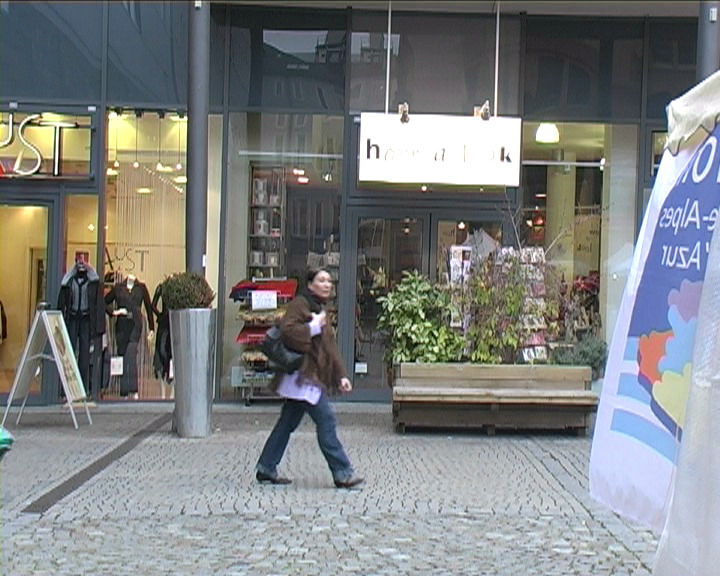deflection: (281, 271, 349, 372)
